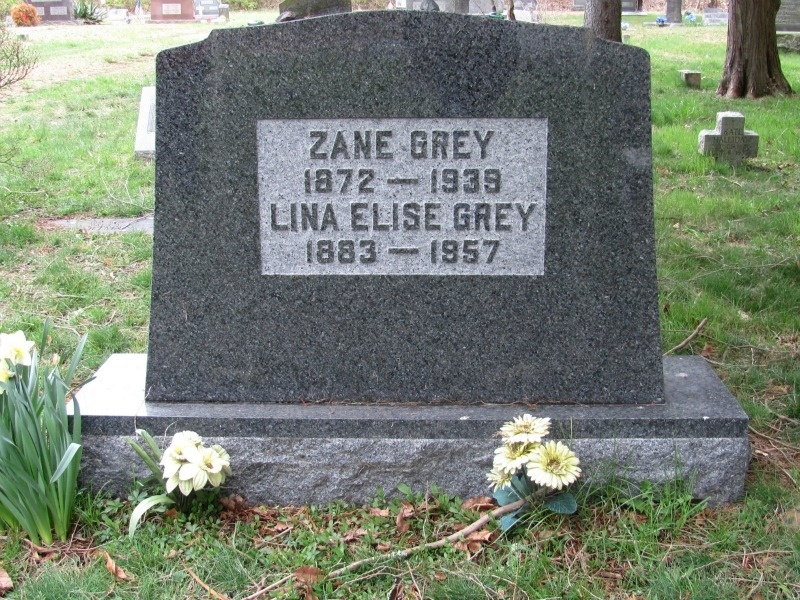text: (417, 130, 432, 161), (433, 130, 448, 161), (449, 130, 464, 161), (465, 130, 480, 161), (273, 202, 288, 233), (289, 202, 304, 233), (305, 202, 320, 233), (321, 202, 336, 233), (321, 130, 336, 161), (337, 130, 352, 161), (353, 130, 368, 161), (369, 130, 384, 161), (465, 202, 480, 233), (481, 202, 496, 233), (497, 202, 512, 233), (513, 202, 528, 233), (353, 202, 368, 232), (369, 202, 384, 232), (385, 202, 400, 232), (401, 202, 416, 232), (417, 202, 432, 232), (305, 168, 320, 196), (321, 168, 336, 196), (337, 168, 352, 196), (353, 168, 368, 196), (305, 238, 320, 266), (321, 238, 336, 266), (337, 238, 352, 266), (353, 238, 368, 266), (433, 167, 448, 194), (449, 167, 464, 194), (465, 167, 480, 194), (481, 167, 496, 194), (433, 239, 448, 266), (449, 239, 464, 266), (465, 239, 480, 266), (481, 239, 496, 266), (481, 130, 494, 161), (308, 130, 320, 161), (452, 202, 464, 233), (433, 202, 444, 232), (369, 238, 379, 266), (385, 130, 394, 161), (529, 202, 538, 233), (369, 168, 377, 196), (497, 167, 505, 194), (410, 130, 416, 161), (385, 246, 400, 257), (401, 246, 416, 257), (337, 202, 342, 233), (385, 178, 400, 187), (401, 178, 416, 187), (427, 239, 432, 266), (497, 239, 502, 266), (269, 202, 272, 233), (349, 202, 352, 232), (429, 167, 432, 194), (417, 246, 423, 257), (417, 178, 422, 187), (382, 178, 384, 187), (383, 246, 384, 257)
